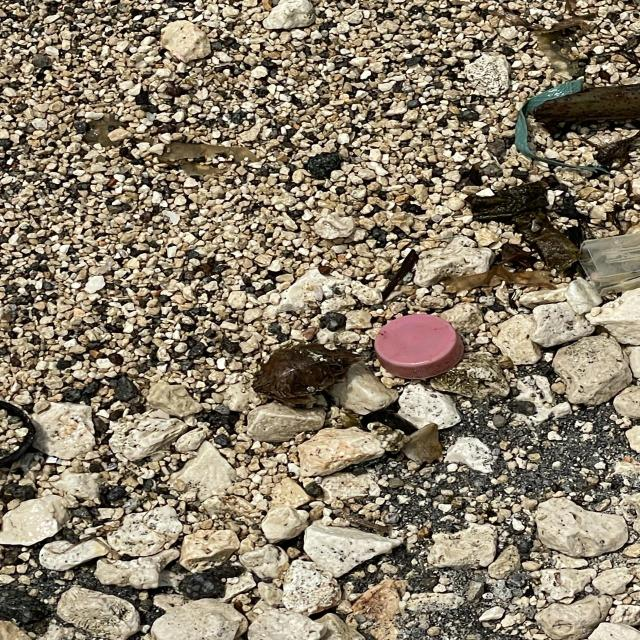litter: (376, 314, 468, 380)
